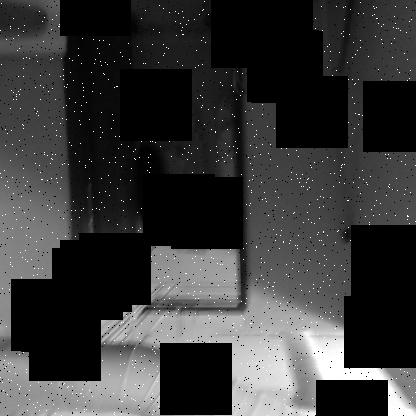Porte: (63, 1, 250, 313)
